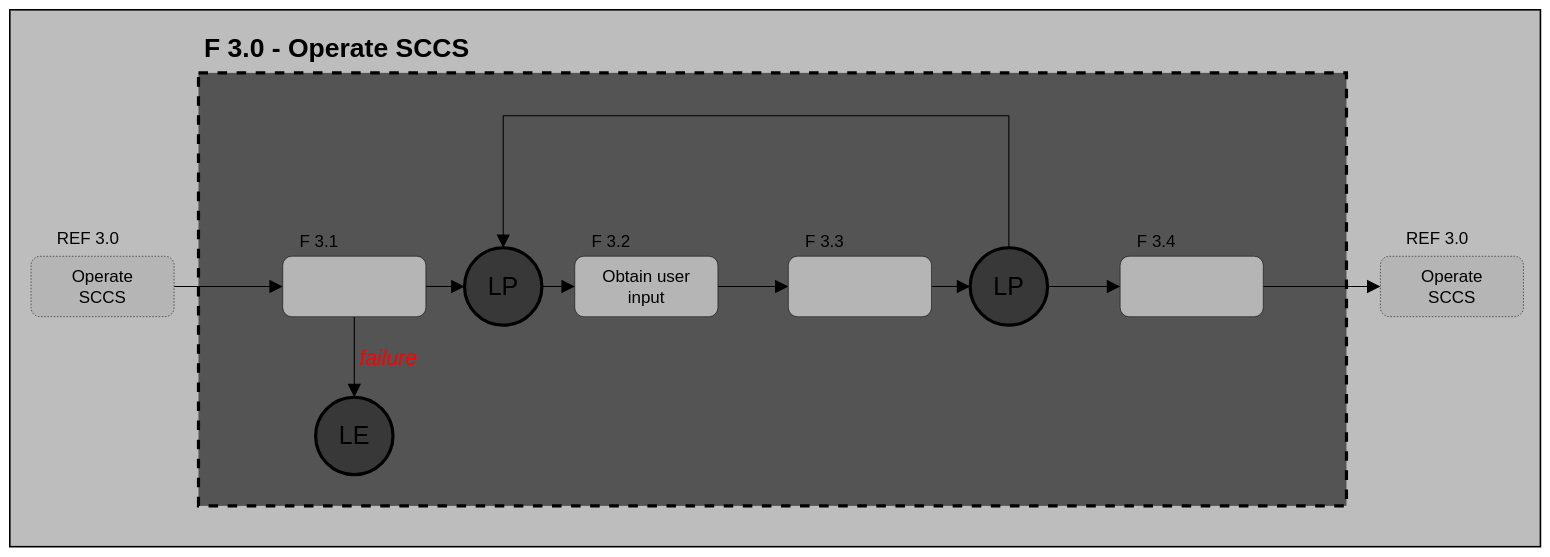
Image size: 1550x557. Some labels were removed from this diagram. The shapes that lost their labels are listed below. From the top down, each one's centre as x and y in pixels, then its label:
(354,286): Startup
(859,286): Monitor area
(1191,286): Shutdown SCCS
